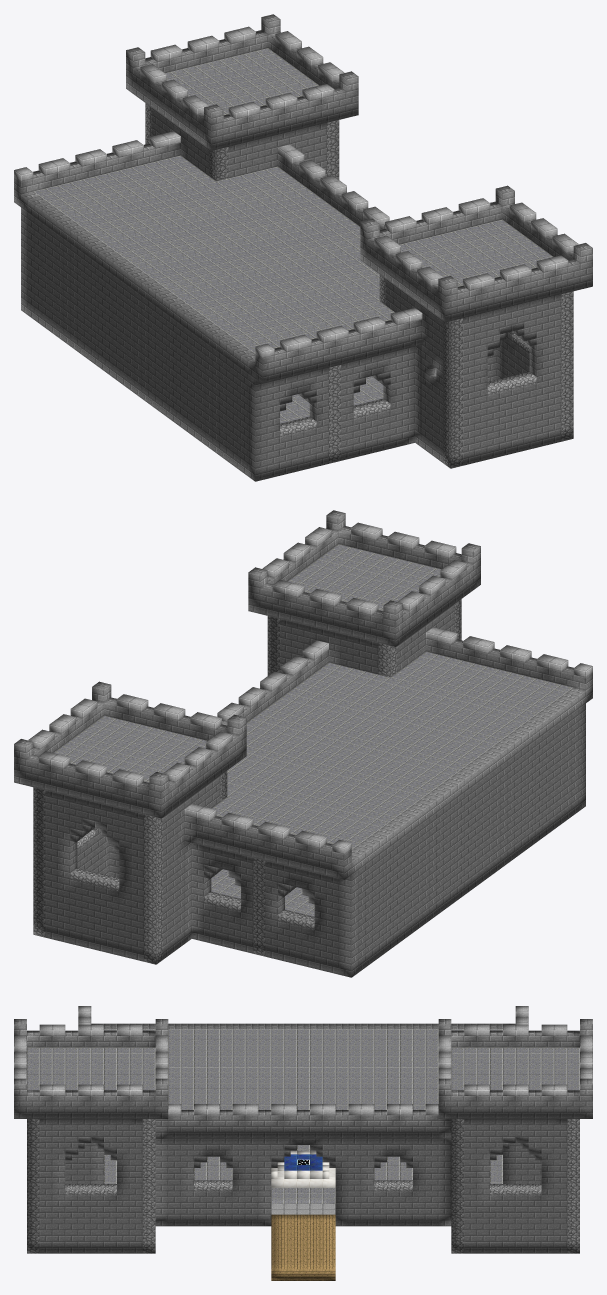
The model's file is CastleTextured.fbx.
3 renders of one model, top to bottom at view 1: azimuth 30°, elevation 25°; view 2: azimuth 150°, elevation 25°; view 3: azimuth 270°, elevation 25°, orthographic. The views are drawn at different scales.
Parts seen in each view (by area): view 1: Stone_Bricks, Stone, Stone_Slab, Cobblestone, Stone_Brick_Stairs; view 2: Stone_Bricks, Stone, Stone_Slab, Cobblestone, Stone_Brick_Stairs; view 3: Stone_Bricks, Stone, Stone_Slab, Cobblestone, Wood_Planks, Stone_Brick_Stairs, Quartz_Stairs, Lapis_Lazuli_Block.
Boxes of the visible parts, x1,y1,x2,y2 form: Stone_Bricks: (14, 14, 592, 481); Stone: (33, 48, 553, 423); Stone_Slab: (14, 26, 578, 436); Cobblestone: (145, 103, 573, 468); Stone_Brick_Stairs: (280, 322, 536, 411); Stone_Bricks: (14, 510, 592, 977); Stone: (53, 544, 573, 916); Stone_Slab: (28, 522, 592, 929); Cobblestone: (33, 599, 461, 964); Stone_Brick_Stairs: (70, 818, 314, 904); Stone_Bricks: (14, 1019, 592, 1253); Stone: (27, 1029, 579, 1203); Stone_Slab: (14, 1006, 592, 1214); Cobblestone: (27, 1119, 579, 1253); Wood_Planks: (271, 1214, 335, 1280); Stone_Brick_Stairs: (65, 1137, 541, 1167); Quartz_Stairs: (271, 1151, 335, 1187); Lapis_Lazuli_Block: (284, 1154, 322, 1170).
Size of the model in its own units: 28 by 15 by 45.
Materials: 11 (11 with a texture image).
